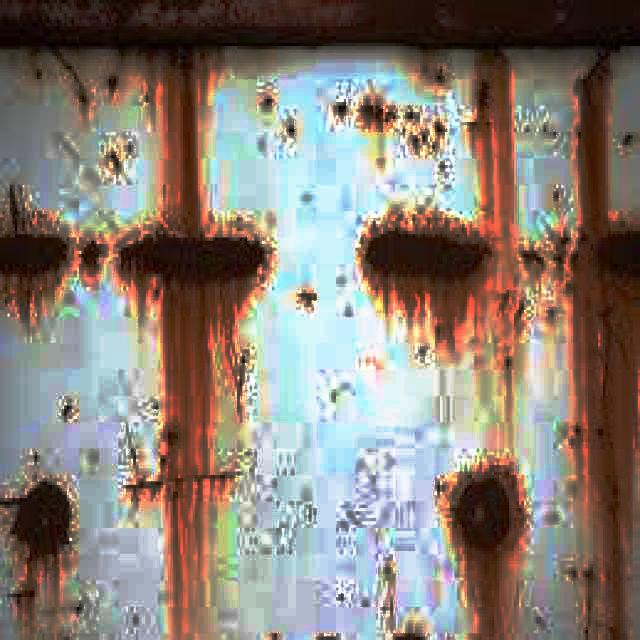Corrosion: (0, 0, 640, 640), (0, 185, 68, 322), (366, 221, 491, 278), (120, 231, 265, 280), (452, 471, 523, 552), (10, 482, 71, 558), (119, 413, 166, 502), (495, 288, 526, 386), (402, 107, 447, 157), (52, 50, 89, 106), (584, 565, 605, 640), (360, 97, 397, 130), (193, 471, 236, 490), (80, 240, 104, 274), (554, 230, 572, 272), (615, 129, 640, 154), (522, 248, 546, 274), (58, 397, 78, 424), (297, 289, 317, 315), (572, 423, 589, 448), (106, 74, 119, 94), (394, 633, 426, 640), (547, 307, 560, 322), (335, 101, 347, 116), (110, 151, 119, 170), (262, 96, 274, 108), (286, 120, 295, 136), (32, 67, 43, 80)
